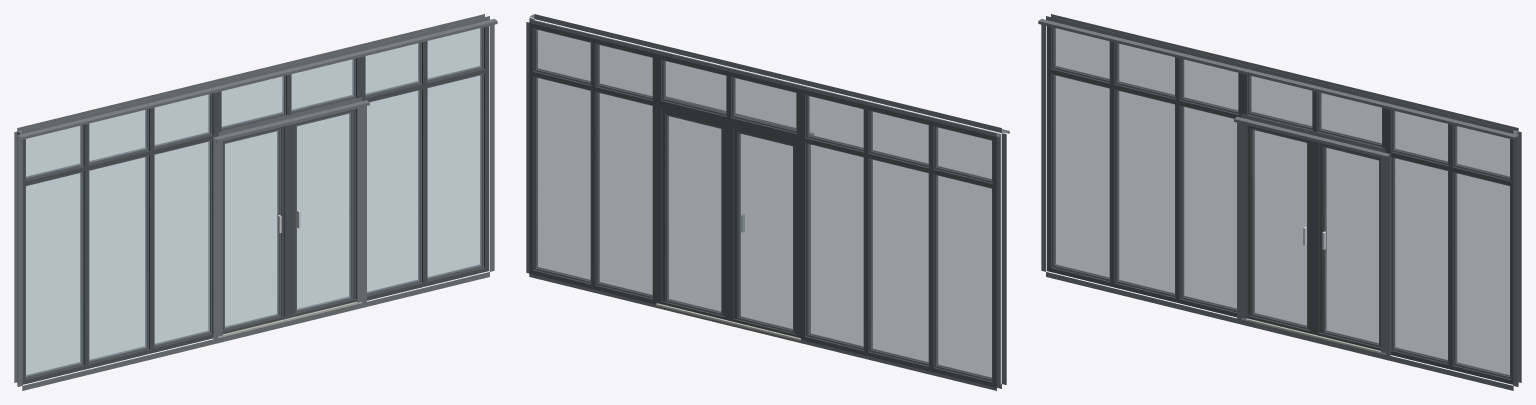
The model's file is Abertura_A1_lado_A_vidriera_con_puerta_5.97m.dae.
3 renders of one model, left to right at view 1: azimuth 30°, elevation 25°; view 2: azimuth 150°, elevation 25°; view 3: azimuth 330°, elevation 25°, orthographic.
Parts seen in each view (by area): view 1: Vidrio (×2), Contramarco (×2), Perfil aluminio (×2), Junquillo (×2), Umbral hormigon; view 2: Vidrio (×2), Perfil aluminio (×2), Junquillo (×2), Contramarco (×2), Umbral hormigon; view 3: Vidrio (×2), Contramarco (×2), Perfil aluminio (×2), Junquillo (×2), Umbral hormigon.
Part boxes in pixels (x1=…): Vidrio (×2): x1=26, y1=28, x2=481, y2=376; Contramarco (×2): x1=14, y1=14, x2=497, y2=390; Perfil aluminio (×2): x1=22, y1=26, x2=488, y2=384; Junquillo (×2): x1=25, y1=27, x2=483, y2=378; Umbral hormigon: x1=218, y1=301, x2=362, y2=338; Vidrio (×2): x1=536, y1=29, x2=991, y2=378; Perfil aluminio (×2): x1=529, y1=23, x2=996, y2=387; Junquillo (×2): x1=534, y1=28, x2=992, y2=381; Contramarco (×2): x1=526, y1=14, x2=1009, y2=390; Umbral hormigon: x1=656, y1=303, x2=800, y2=340; Vidrio (×2): x1=1054, y1=28, x2=1509, y2=376; Contramarco (×2): x1=1038, y1=14, x2=1521, y2=390; Perfil aluminio (×2): x1=1047, y1=26, x2=1513, y2=384; Junquillo (×2): x1=1052, y1=27, x2=1510, y2=378; Umbral hormigon: x1=1241, y1=318, x2=1385, y2=354.
Bounding box in the file's own units: 5.97 × 0.205 × 3.12.
